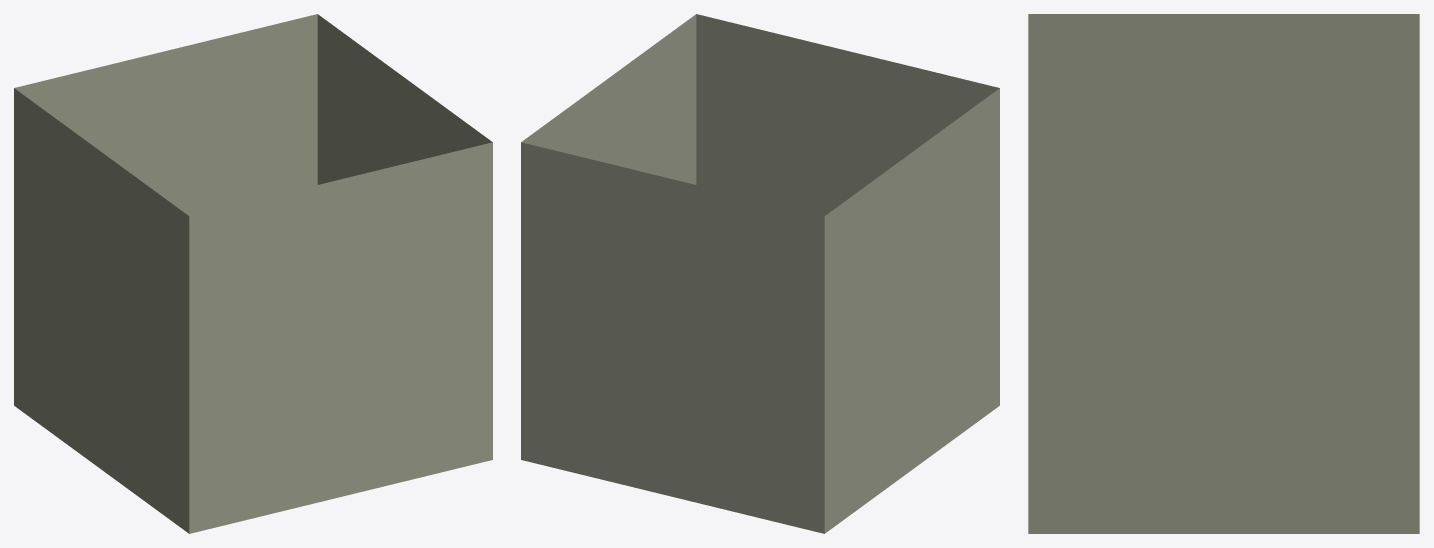
Rendered from Level 3.fbx.
3 views of the same model, side by side, from view 1: azimuth 30°, elevation 25°; view 2: azimuth 150°, elevation 25°; view 3: azimuth 270°, elevation 25° (orthographic). The views are drawn at different scales.
Visible parts, largest first — view 1: Borda_mapa; view 2: Borda_mapa; view 3: Borda_mapa.
Part boxes in pixels (x1,y1,x2,y2): Borda_mapa: [14, 14, 492, 533]; Borda_mapa: [521, 14, 999, 533]; Borda_mapa: [1028, 14, 1419, 533].
Bounding box in the file's own units: 11701 × 11701 × 11701.
